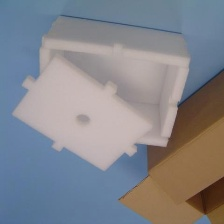book: (114, 67, 224, 224)
foam_box: (6, 11, 195, 175)
